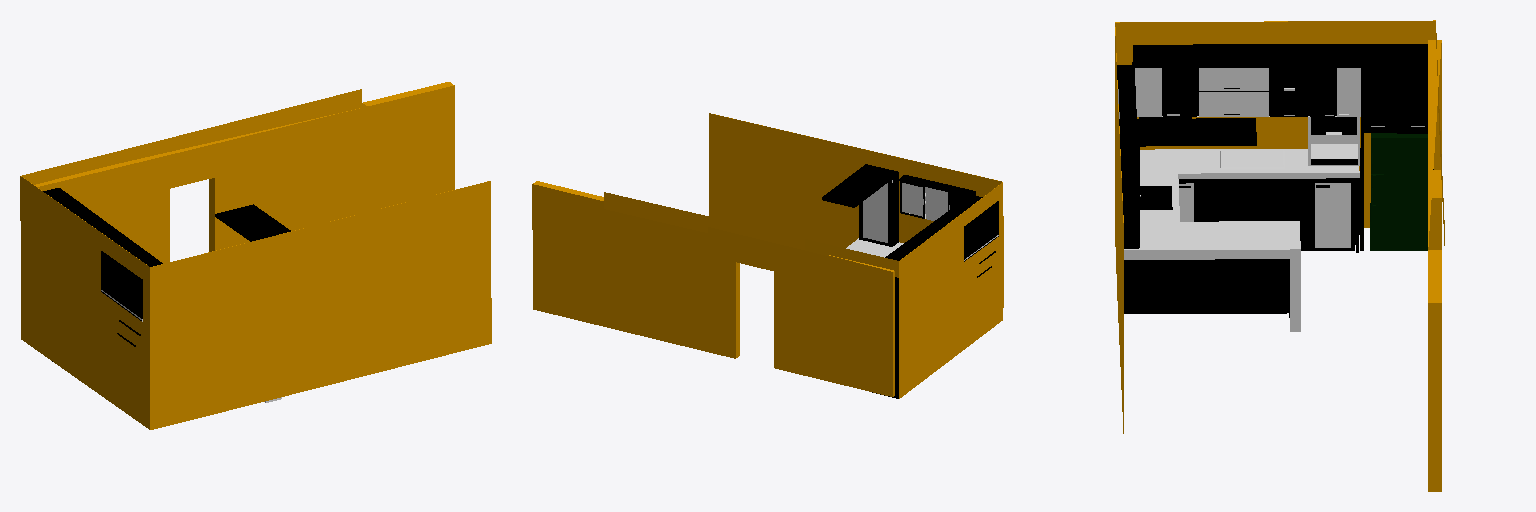
The robot description file, URDF, robot "kitchen":
<?xml version="0.0" ?>
<robot name="kitchen">
  <link name="baseLink">
    <contact>
      <lateral_friction value="1.0"/>
      <rolling_friction value="0.0"/>
      <contact_cfm value="0.0"/>
      <contact_erp value="1.0"/>
    </contact>
    <inertial>
      <origin rpy="1.57 0 0" xyz="0.0 0.0 0.04"/>
       <mass value=".1"/>
       <inertia ixx="1" ixy="0" ixz="0" iyy="1" iyz="0" izz="1"/>
    </inertial>
    <visual>
      <origin rpy="1.57 0 0" xyz="0 0 0.04"/>
      <geometry>
        <mesh filename="meshes/kitchen/wall.obj" />
      </geometry>

    </visual>
    <collision>
      <origin rpy="1.57 0 0" xyz="0 0 0.04"/>
      <geometry>
	 	<mesh filename="meshes/kitchen/wall.obj" />
      </geometry>
    </collision>
  </link>


  <joint name="obj1" type="fixed">
    <origin rpy="0 0 0" xyz=" 0 0 0"/>
    <parent link="baseLink"/>
    <child link="obj1"/>
  </joint>
    <link name="obj1">
    <contact>
      <lateral_friction value="1.0"/>
      <rolling_friction value="0.0"/>
      <contact_cfm value="0.0"/>
      <contact_erp value="1.0"/>
    </contact>
    <inertial>
      <origin rpy="1.57 0 0" xyz="0.0 0.0 0."/>
       <mass value=".1"/>
       <inertia ixx="1" ixy="0" ixz="0" iyy="1" iyz="0" izz="1"/>
    </inertial>
    <visual>
      <origin rpy="1.57 0 0" xyz="0 0 0.0"/>
      <geometry>
        <mesh filename="meshes/kitchen/obj1.obj" />
      </geometry>
      <material name="sofa">
        <color rgba="0.9 0.9 0.9 1"/>
      </material>
    </visual>
    <collision>
      <origin rpy="1.57 0 0" xyz="0 0 0.0"/>
      <geometry>
	 	<mesh filename="meshes/kitchen/obj1.obj" />
      </geometry>
    </collision>
  </link>


  <joint name="obj2" type="fixed">
    <origin rpy="0 0 0" xyz=" 0 0 0"/>
    <parent link="baseLink"/>
    <child link="obj2"/>
  </joint>
    <link name="obj2">
    <contact>
      <lateral_friction value="1.0"/>
      <rolling_friction value="0.0"/>
      <contact_cfm value="0.0"/>
      <contact_erp value="1.0"/>
    </contact>
    <inertial>
      <origin rpy="1.57 0 0" xyz="0.0 0.0 0."/>
       <mass value=".1"/>
       <inertia ixx="1" ixy="0" ixz="0" iyy="1" iyz="0" izz="1"/>
    </inertial>
    <visual>
      <origin rpy="1.57 0 0" xyz="0 0 0.0"/>
      <geometry>
        <mesh filename="meshes/kitchen/obj2.obj" />
      </geometry>
      <material name="o2">
        <color rgba="0 0. 0. 1"/>
      </material>
    </visual>
    <collision>
      <origin rpy="1.57 0 0" xyz="0 0 0.0"/>
      <geometry>
	 	<mesh filename="meshes/kitchen/obj2.obj" />
      </geometry>
    </collision>
  </link>

  <joint name="floor" type="fixed">
    <origin rpy="0 0 0" xyz=" 0 0 0"/>
    <parent link="baseLink"/>
    <child link="refrigerator"/>
  </joint>
    <link name="refrigerator">
    <contact>
      <lateral_friction value="1.0"/>
      <rolling_friction value="0.0"/>
      <contact_cfm value="0.0"/>
      <contact_erp value="1.0"/>
    </contact>
    <inertial>
      <origin rpy="1.57 0 0" xyz="0.0 0.0 0."/>
       <mass value=".1"/>
       <inertia ixx="1" ixy="0" ixz="0" iyy="1" iyz="0" izz="1"/>
    </inertial>
    <visual>
      <origin rpy="1.57 0 0" xyz="0 0 0.0"/>
      <geometry>
        <mesh filename="meshes/kitchen/refrigerator.obj" />
      </geometry>
      <material name="refrigerator">
        <color rgba="0.02 0.15 0.02 1"/>
      </material>
    </visual>
    <collision>
      <origin rpy="1.57 0 0" xyz="0 0 0.0"/>
      <geometry>
	 	<mesh filename="meshes/kitchen/refrigerator.obj" />
      </geometry>
    </collision>
  </link>



  <joint name="tap" type="fixed">
    <origin rpy="0 0 0" xyz=" 0 0 0"/>
    <parent link="baseLink"/>
    <child link="tap"/>
  </joint>
    <link name="tap">
    <contact>
      <lateral_friction value="1.0"/>
      <rolling_friction value="0.0"/>
      <contact_cfm value="0.0"/>
      <contact_erp value="1.0"/>
    </contact>
    <inertial>
      <origin rpy="1.57 0 0" xyz="0.0 0.0 0."/>
       <mass value=".1"/>
       <inertia ixx="1" ixy="0" ixz="0" iyy="1" iyz="0" izz="1"/>
    </inertial>
    <visual>
      <origin rpy="1.57 0 0" xyz="0 0 0.0"/>
      <geometry>
        <mesh filename="meshes/kitchen/tap.obj" />
      </geometry>
      <material name="sofa">
        <color rgba="0.9 0.9 0.9 1"/>
      </material>
    </visual>
    <collision>
      <origin rpy="1.57 0 0" xyz="0 0 0.0"/>
      <geometry>
	 	<mesh filename="meshes/kitchen/tap.obj" />
      </geometry>
    </collision>
  </link>
</robot>

--- Facts derived from the render (not from the file) ---
The picture shows the robot from 3 angles, left to right: view 1: azimuth 30°, elevation 25°; view 2: azimuth 150°, elevation 25°; view 3: azimuth 270°, elevation 25°; orthographic projection.
Robot: kitchen — 5 links, 4 joints (4 fixed); root link baseLink; default pose: every joint at zero.
Visible links, largest first — view 1: baseLink, obj2; view 2: baseLink, obj2, obj1; view 3: obj2, obj1, baseLink, refrigerator.
Boxes of the visible links, x1,y1,x2,y2 form: baseLink: [20, 82, 491, 429]; obj2: [43, 188, 290, 361]; baseLink: [532, 113, 1003, 398]; obj2: [822, 164, 998, 398]; obj1: [846, 180, 998, 260]; obj2: [1117, 44, 1433, 317]; obj1: [1118, 68, 1424, 331]; baseLink: [1115, 20, 1444, 491]; refrigerator: [1370, 133, 1427, 250].
Bounding box of the posed robot: 18.82 × 9.84 × 6.9 m (x, y, z).
5 mesh visuals loaded from 5 distinct referenced files (5 OBJ).